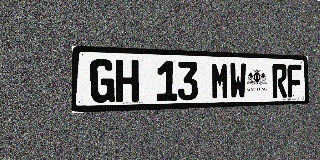1: (156, 61, 177, 101)
3: (178, 61, 198, 101)
F: (287, 64, 302, 97)
G: (90, 59, 115, 103)
H: (116, 59, 139, 102)
M: (211, 62, 229, 100)
R: (272, 64, 287, 98)
W: (229, 63, 246, 99)
